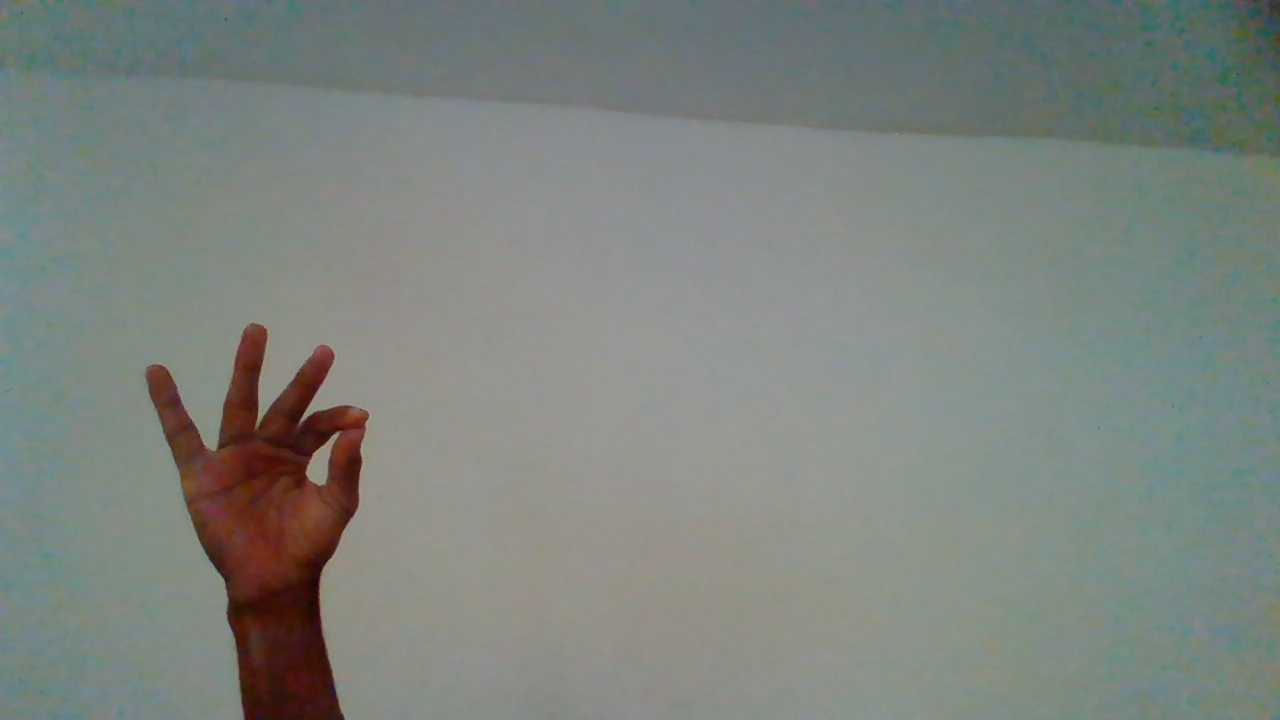le: (144, 319, 371, 718)
